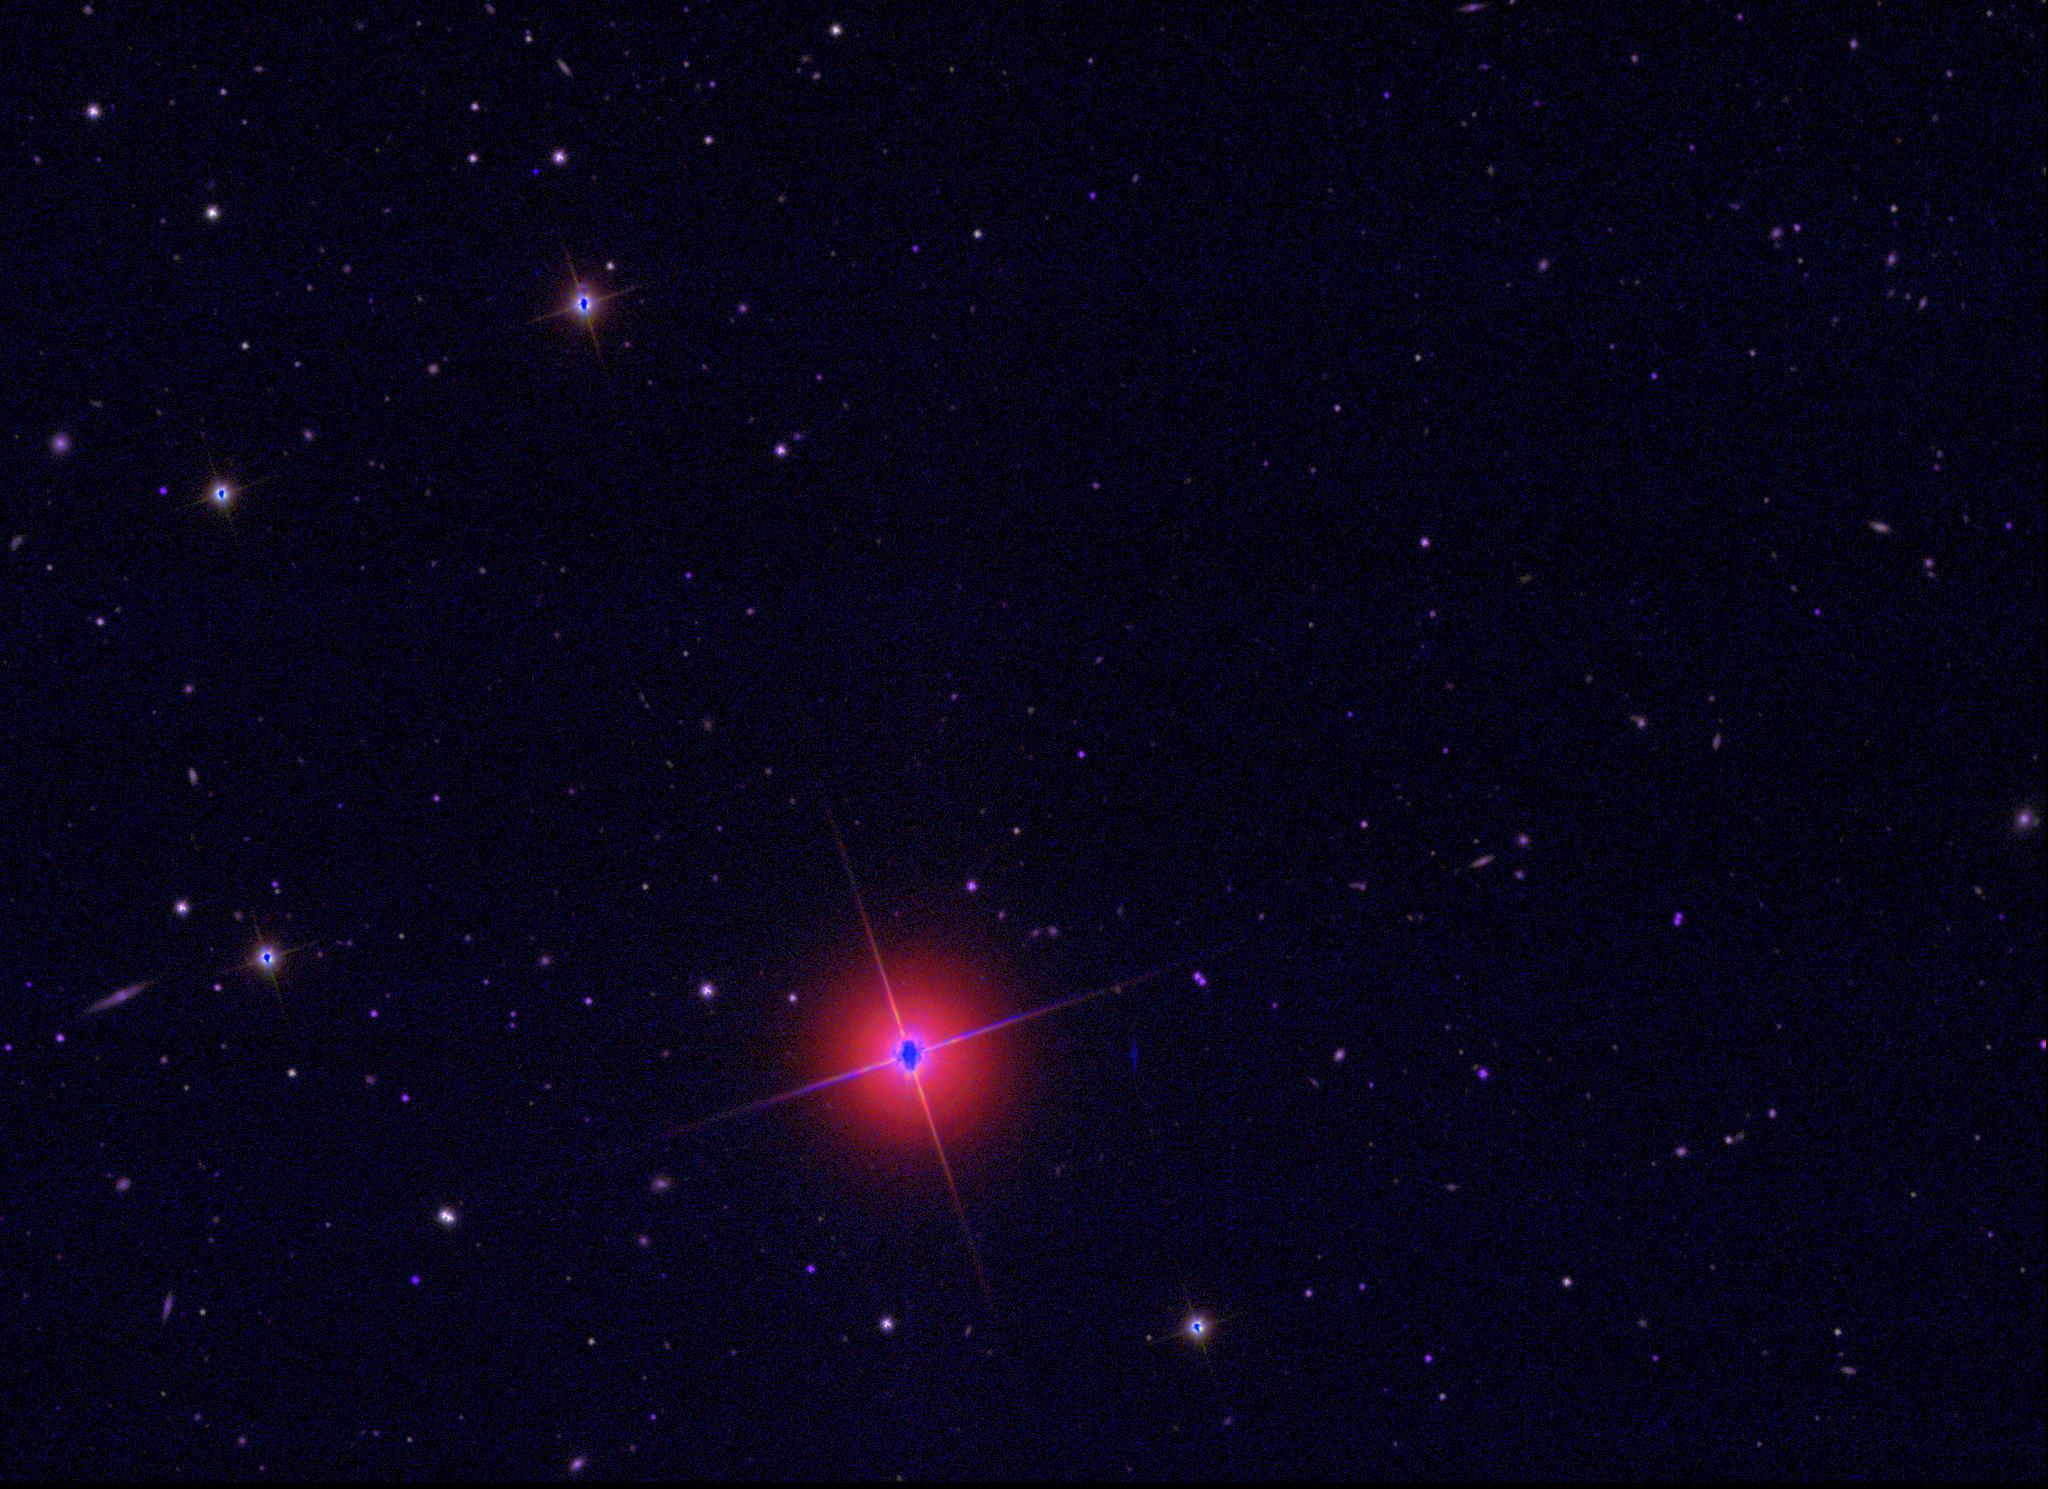L: (529, 165, 544, 180)
